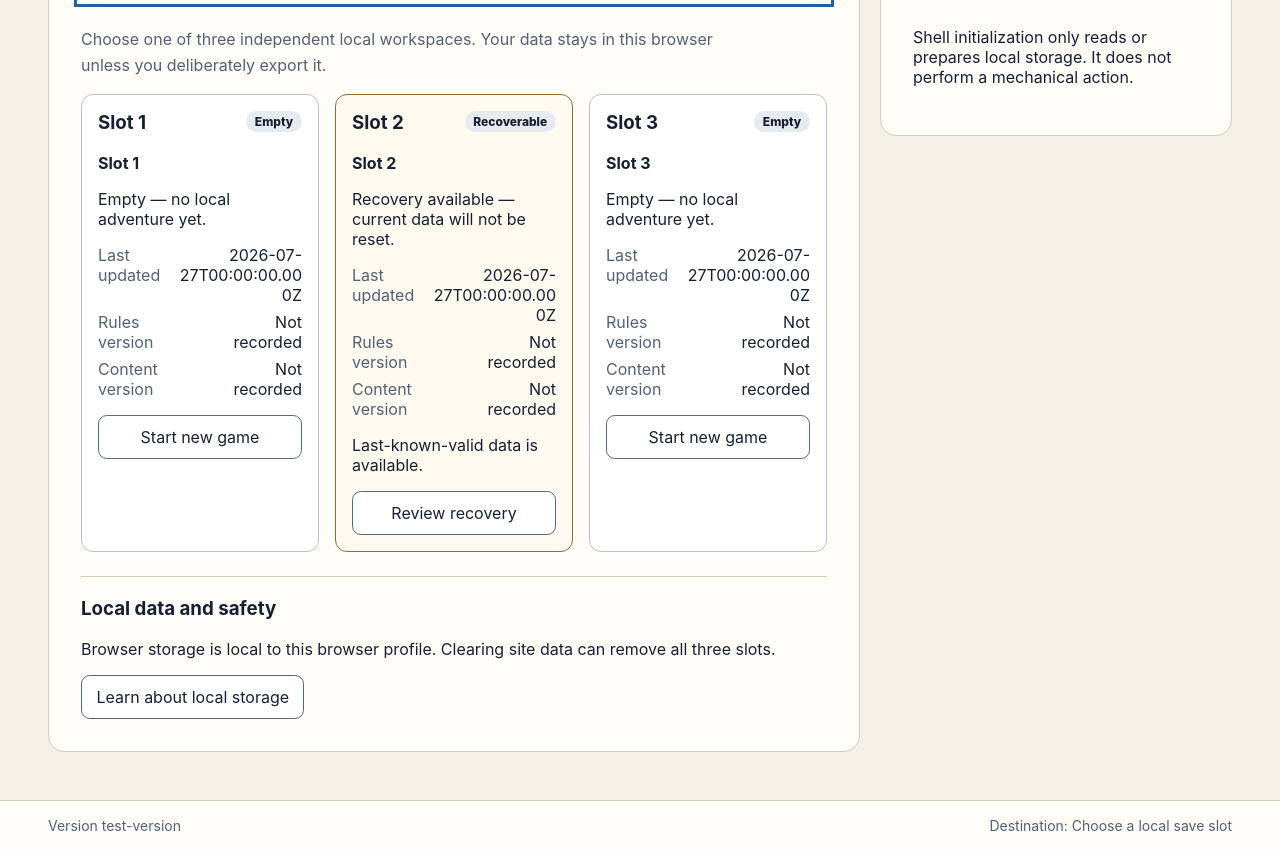
Test: App shell › routes a recoverable slot to safe data explanation without selecting or resetting it
The image size is (1280, 850).
(page scrolled)
Click the button "Review recovery" at (454, 513), box [352,491,556,535]
(page scrolled)
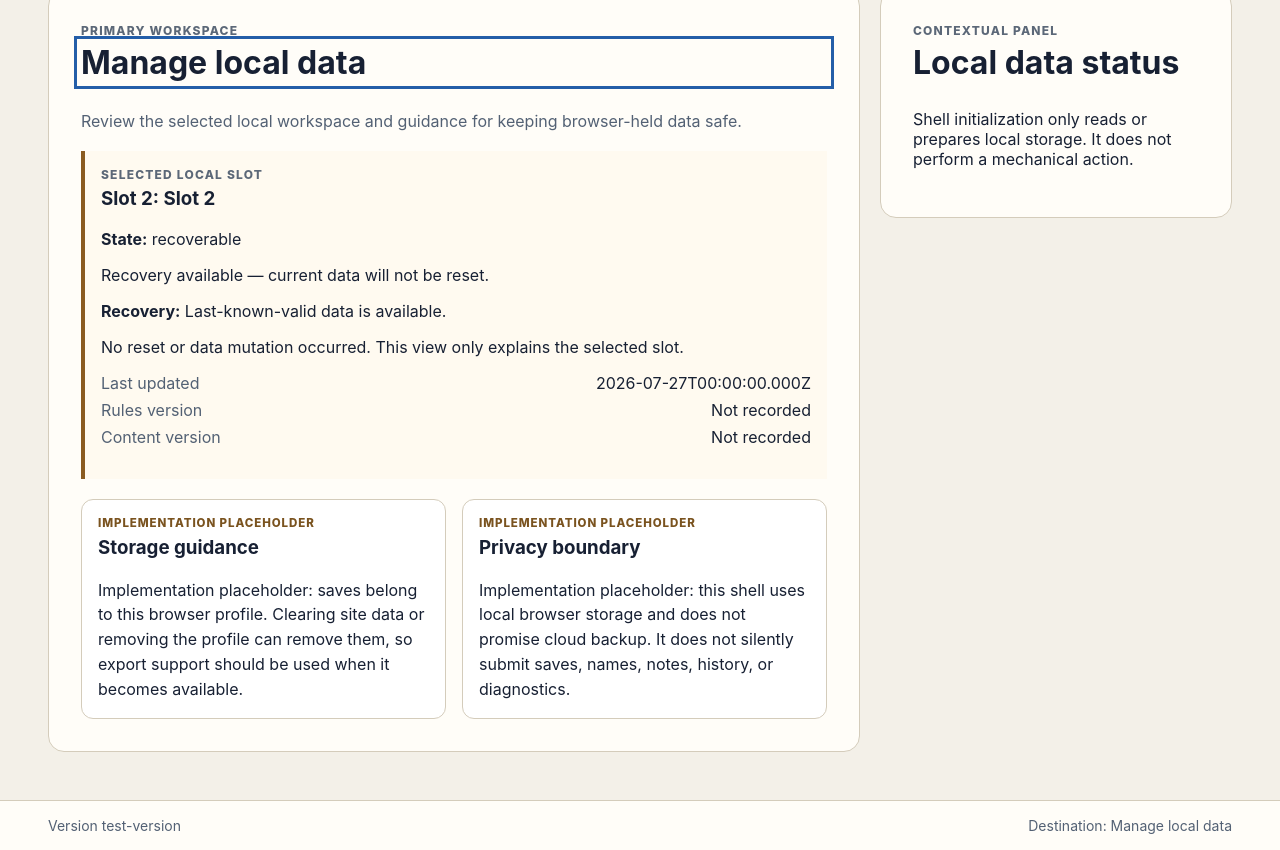
Expected: the text "Recovery available — current data will not be reset." is shown, [101,265,489,285]
Expected: the heading "Slot 2: Slot 2" is shown, [101,187,215,210]
Expected: the text "No reset or data mutation occurred. This view only explains the selected slot." is shown, [101,337,684,357]
